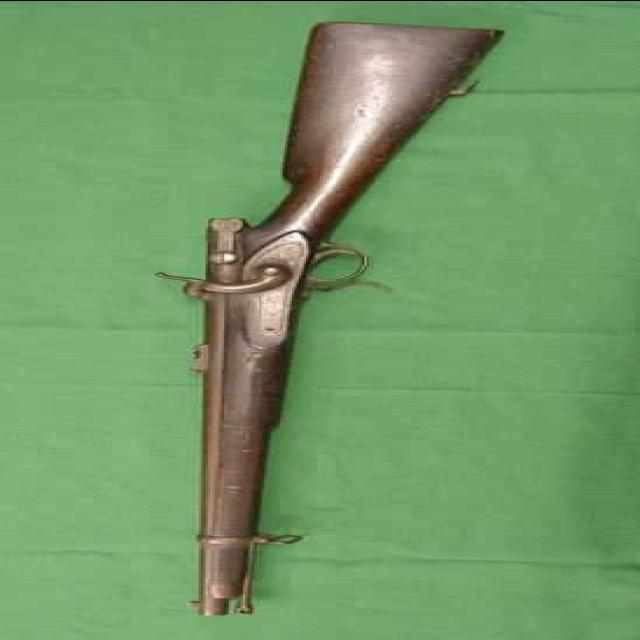heavyweapon: (148, 12, 531, 628)
